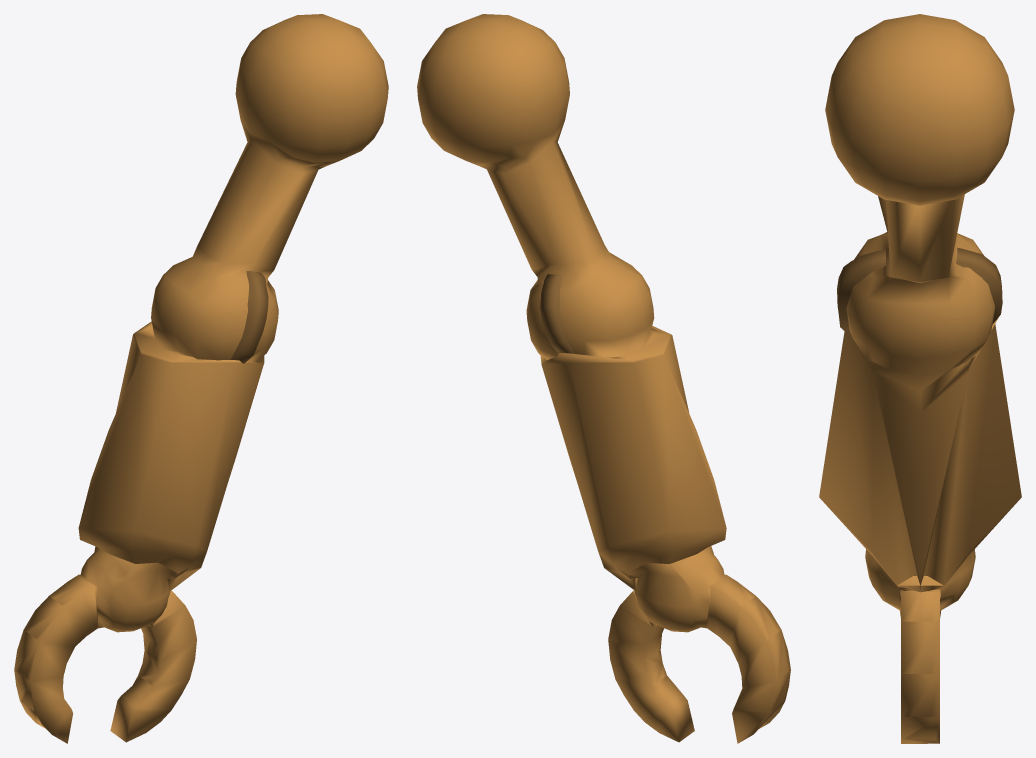
The model's file is Arm_L (3).fbx.
3 views of the same model, side by side, from view 1: azimuth 30°, elevation 25°; view 2: azimuth 150°, elevation 25°; view 3: azimuth 270°, elevation 25° (orthographic). The views are drawn at different scales.
Parts seen in each view (by area): view 1: Time.002; view 2: Time.002; view 3: Time.002.
Boxes of the visible parts, bbox=[...] form: Time.002: bbox=[14, 14, 388, 743]; Time.002: bbox=[417, 14, 790, 743]; Time.002: bbox=[819, 14, 1021, 743].
Size of the model in its own units: 46.08 by 82.69 by 18.29.
